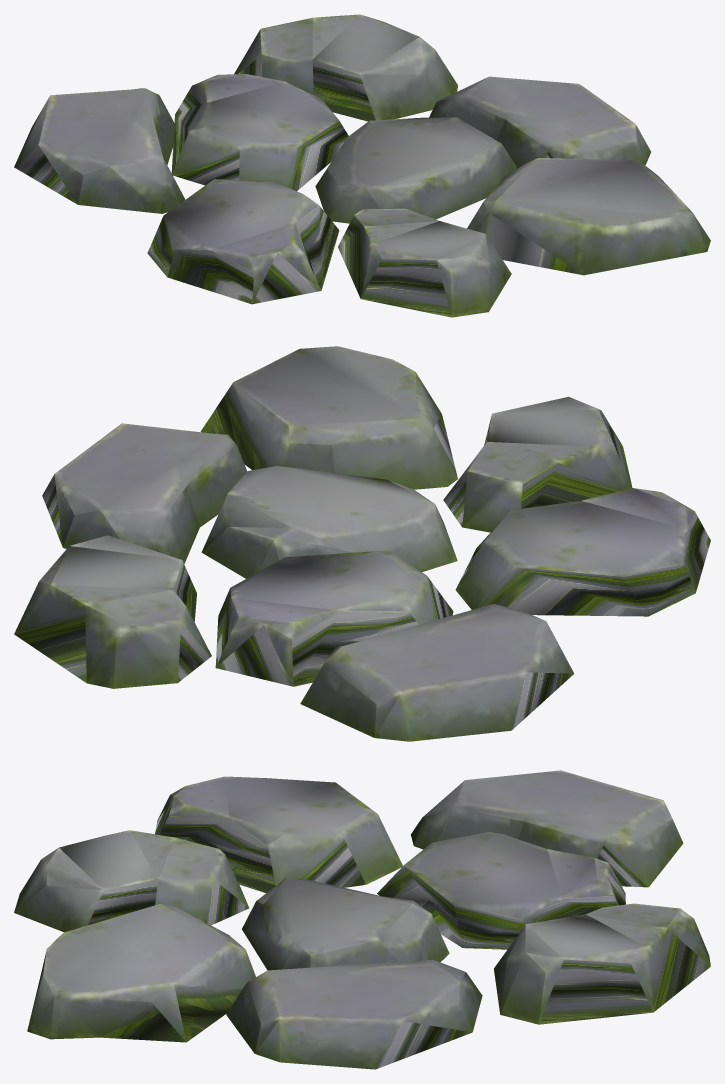
The model's file is nkpath2.glb.
3 renders of one model, top to bottom at view 1: azimuth 30°, elevation 25°; view 2: azimuth 150°, elevation 25°; view 3: azimuth 270°, elevation 25°, orthographic. The views are drawn at different scales.
Parts seen in each view (by area): view 1: RockPath_Round_Small_3; view 2: RockPath_Round_Small_3; view 3: RockPath_Round_Small_3.
Part boxes in pixels (x1=…): RockPath_Round_Small_3: x1=14, y1=14, x2=710, y2=317; RockPath_Round_Small_3: x1=14, y1=346, x2=710, y2=741; RockPath_Round_Small_3: x1=14, y1=770, x2=710, y2=1069.
Size of the model in its own units: 1.17 by 0.1079 by 1.29.
Materials: 1 (1 with a texture image).
